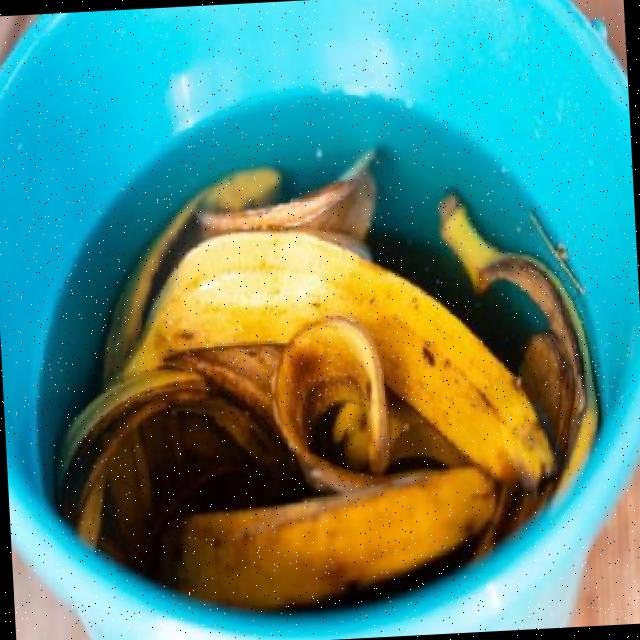banana-peel: (40, 145, 578, 618)
